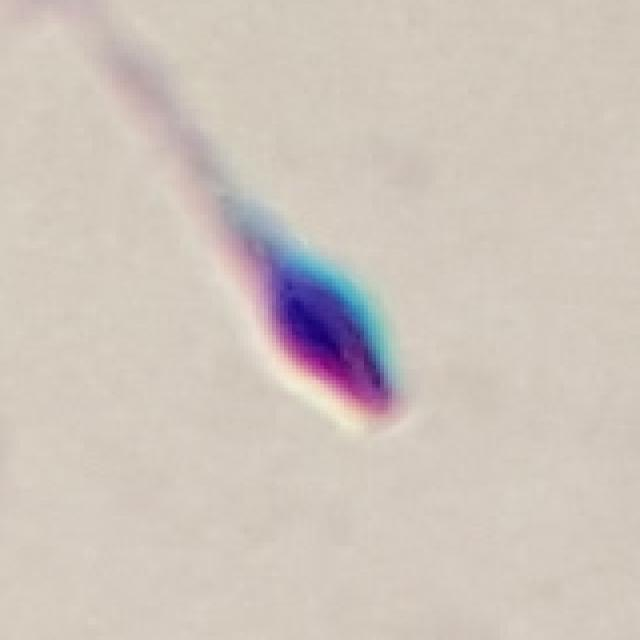abnormal sperm: (132, 113, 432, 445)
